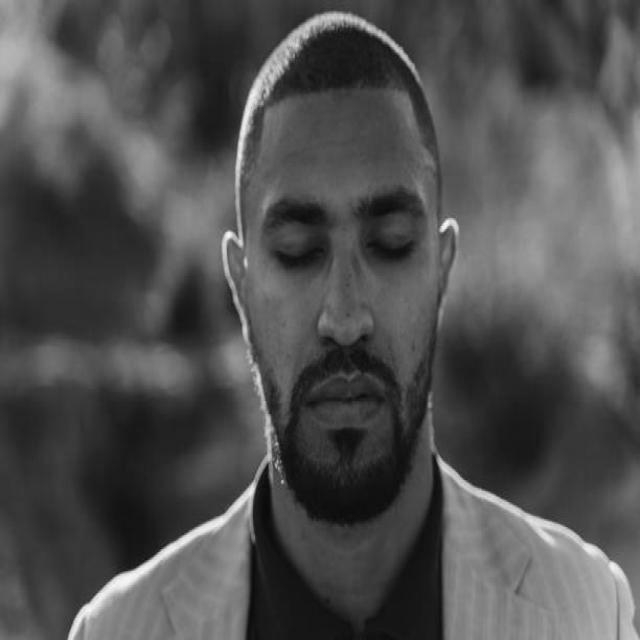real: (221, 13, 460, 525), (252, 188, 436, 278)
